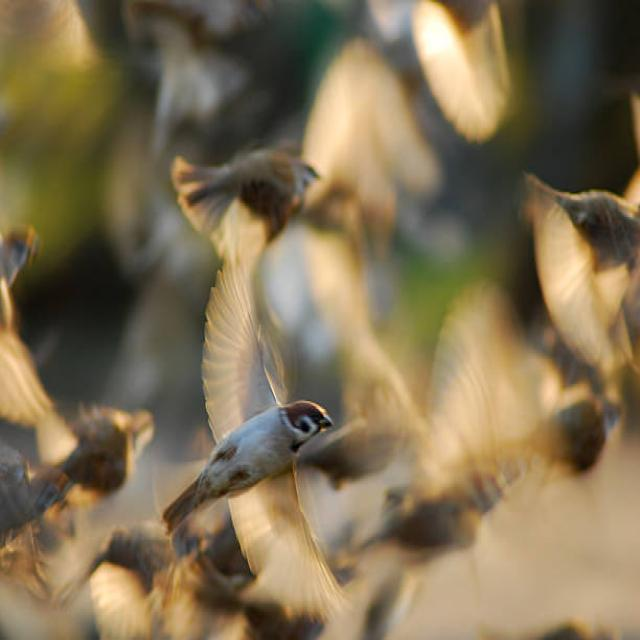bird: (166, 223, 348, 610)
